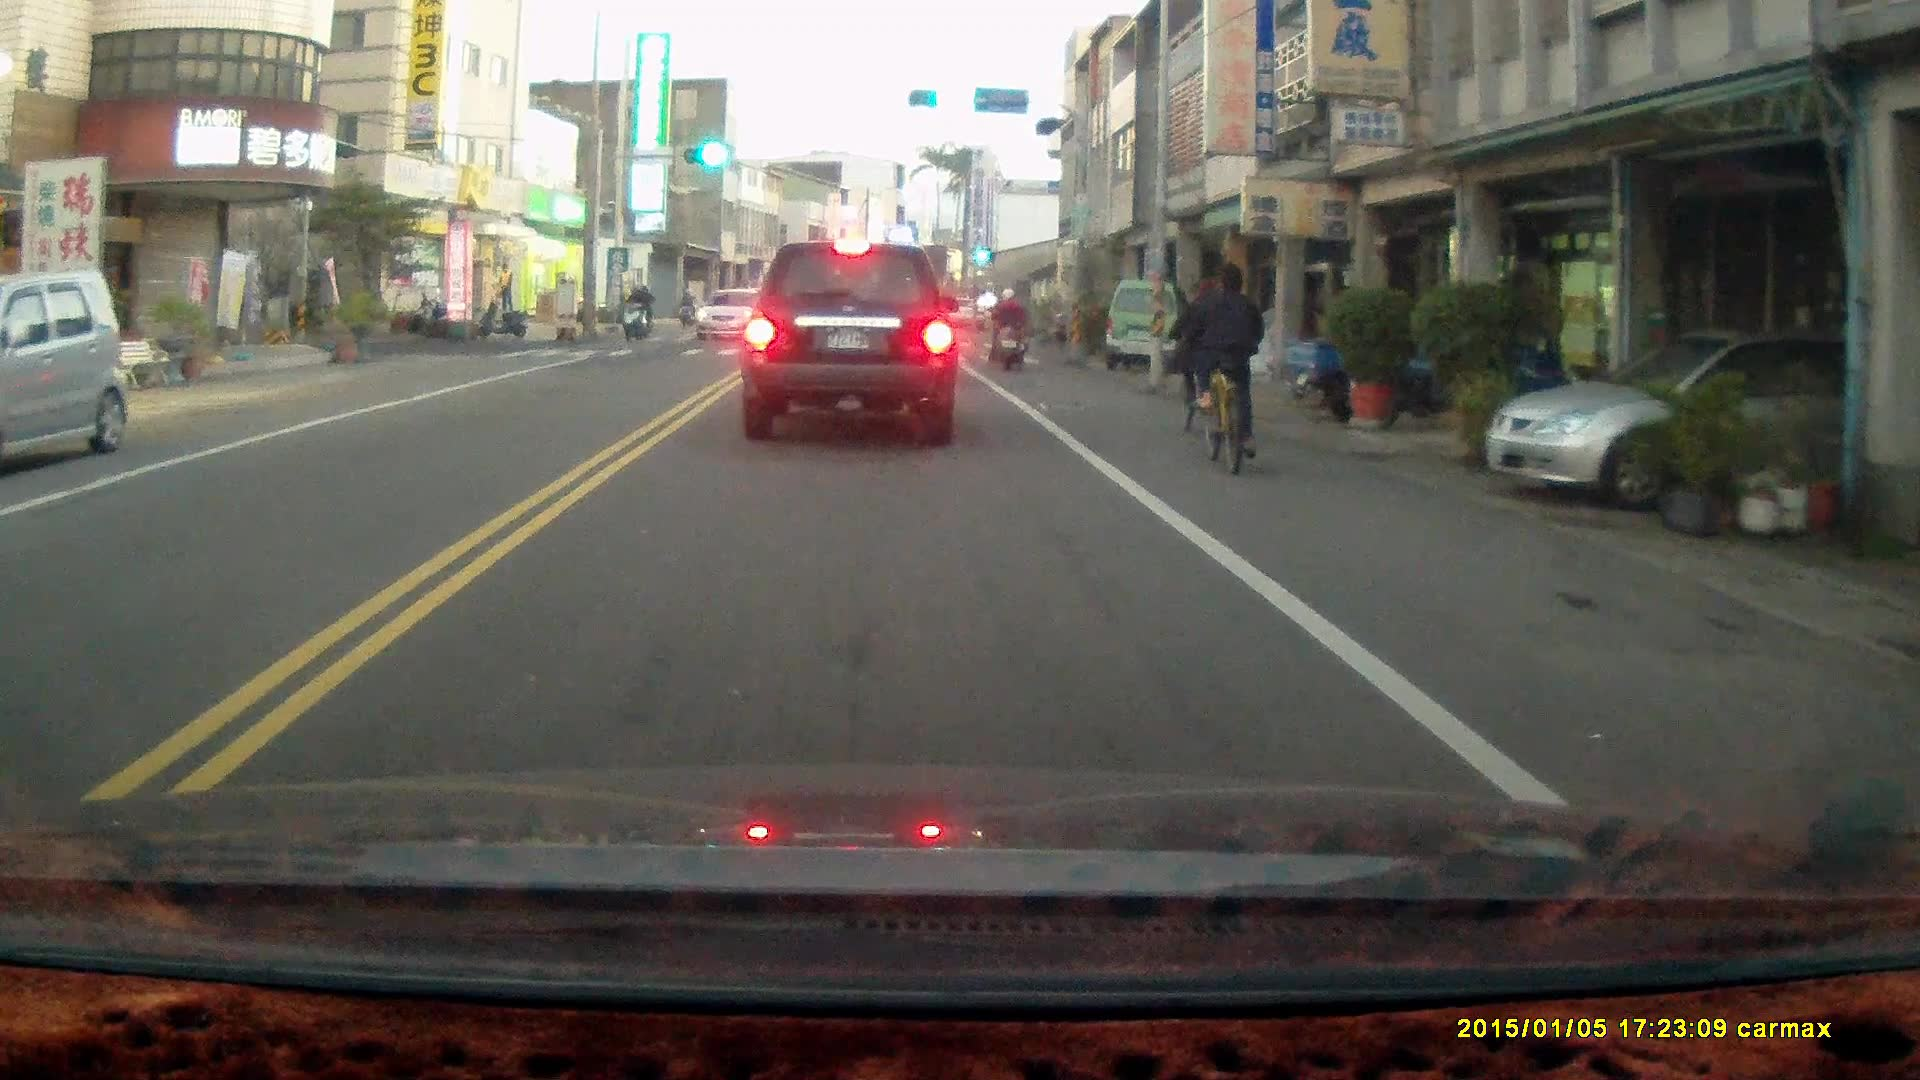pedestrian: (494, 261, 514, 312)
rider: (1188, 260, 1264, 471), (1167, 281, 1228, 444), (983, 286, 1031, 371), (618, 281, 650, 342), (674, 291, 695, 324)
vehicle: (1481, 327, 1911, 511), (739, 243, 961, 450), (1, 272, 134, 480), (1109, 279, 1199, 367)
